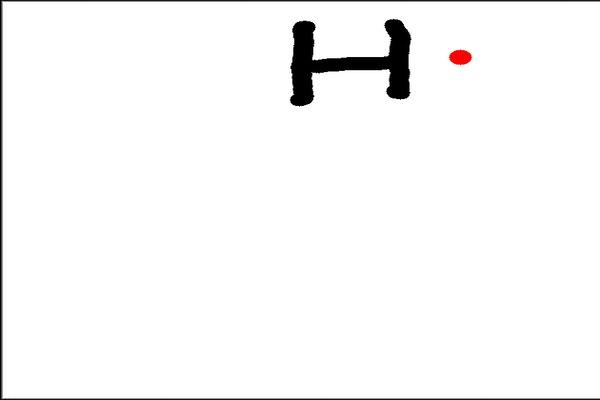H: (280, 10, 419, 113)
